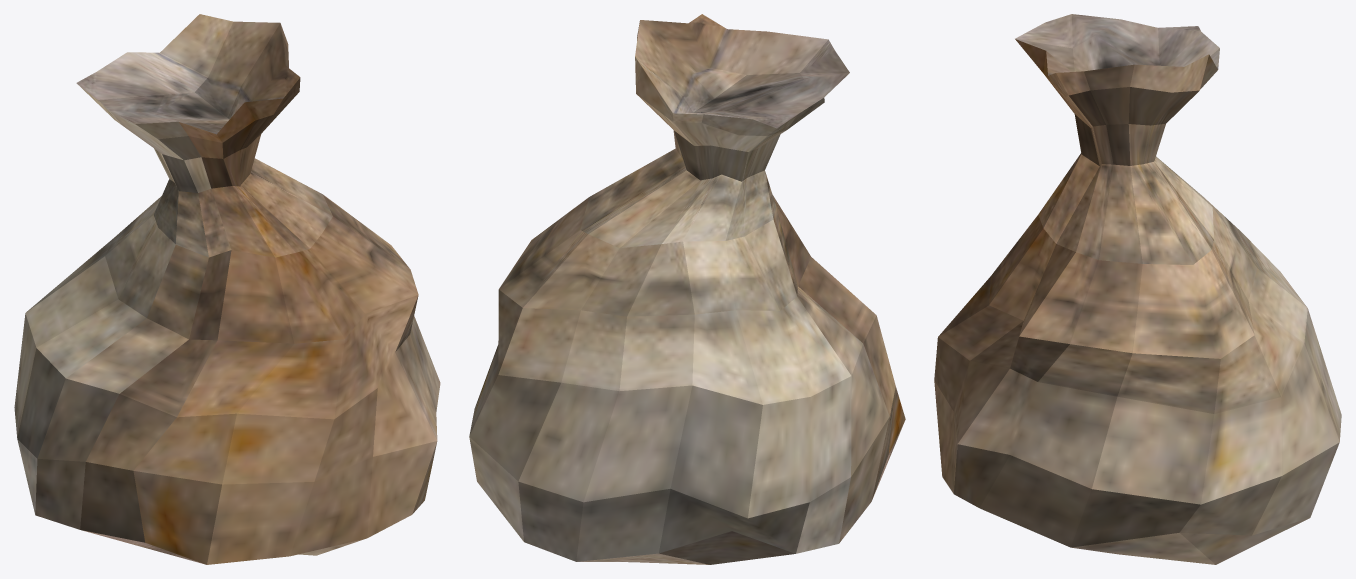
Rendered from coinbag.glb.
3 views of the same model, side by side, from view 1: azimuth 30°, elevation 25°; view 2: azimuth 150°, elevation 25°; view 3: azimuth 270°, elevation 25° (orthographic). The views are drawn at different scales.
Parts seen in each view (by area): view 1: Cube; view 2: Cube; view 3: Cube.
Boxes of the visible parts, <box> form: Cube: <box>14,14,440,564</box>; Cube: <box>469,14,905,564</box>; Cube: <box>934,14,1341,564</box>.
Bounding box in the file's own units: 1.2 × 1.6 × 1.21.
Materials: 1 (1 with a texture image).
